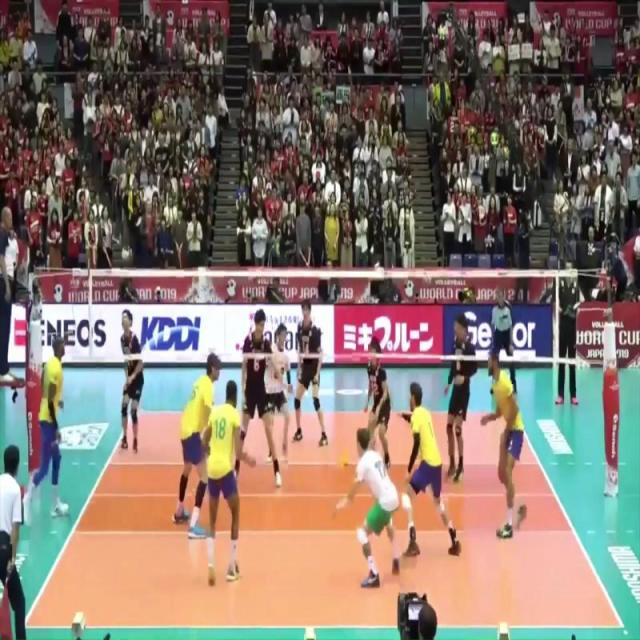volleyball: (335, 444, 352, 473)
